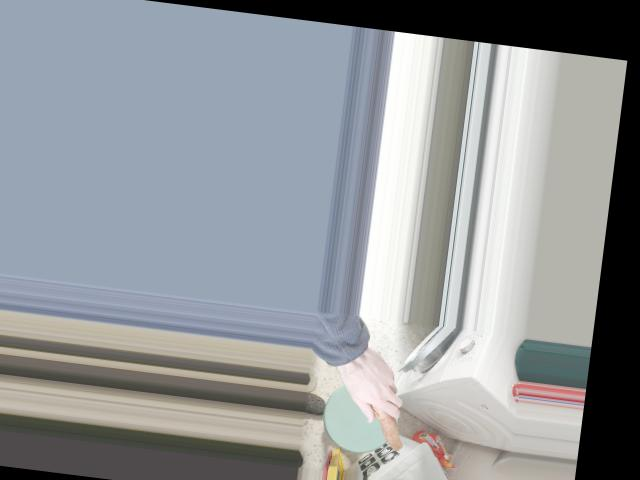sweet_potato: (347, 369, 411, 448)
